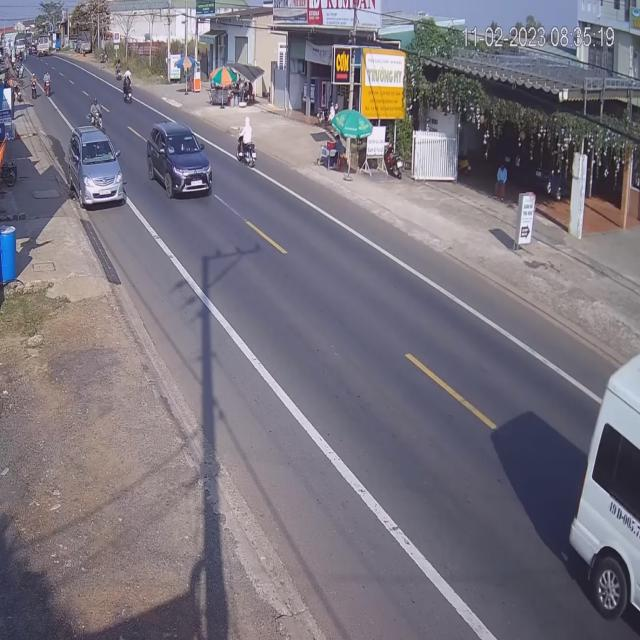bus: (568, 336, 639, 636)
car: (147, 120, 212, 200), (70, 128, 124, 210)
motorbike: (238, 119, 258, 170), (90, 96, 103, 129), (124, 72, 134, 105)
